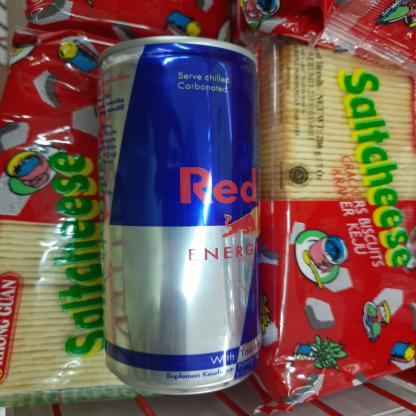bottle: (93, 32, 266, 400)
